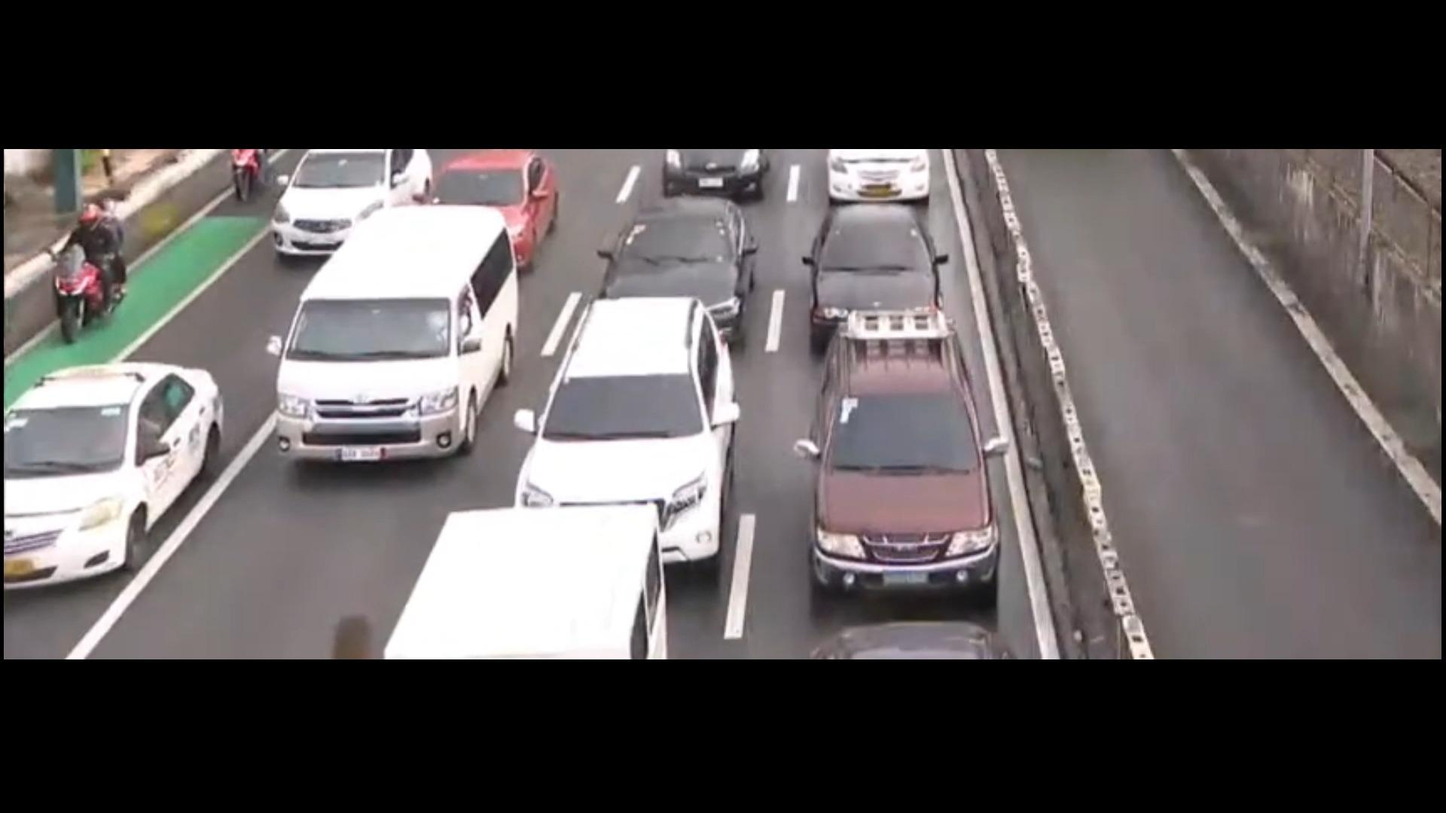Motorcycle: (45, 195, 134, 344)
Multicab: (380, 508, 664, 663)
SUV: (514, 300, 741, 582), (798, 327, 1008, 590)
Sedan: (0, 351, 236, 596), (591, 201, 756, 345), (812, 207, 940, 354), (271, 151, 425, 261)
Van: (271, 213, 523, 472)
